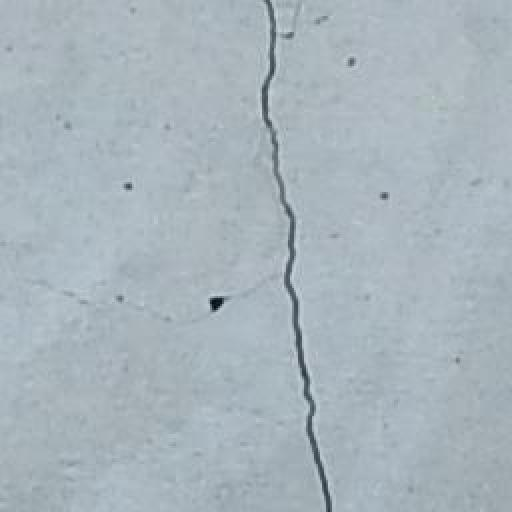spalling: (254, 5, 353, 501), (2, 240, 279, 344)
